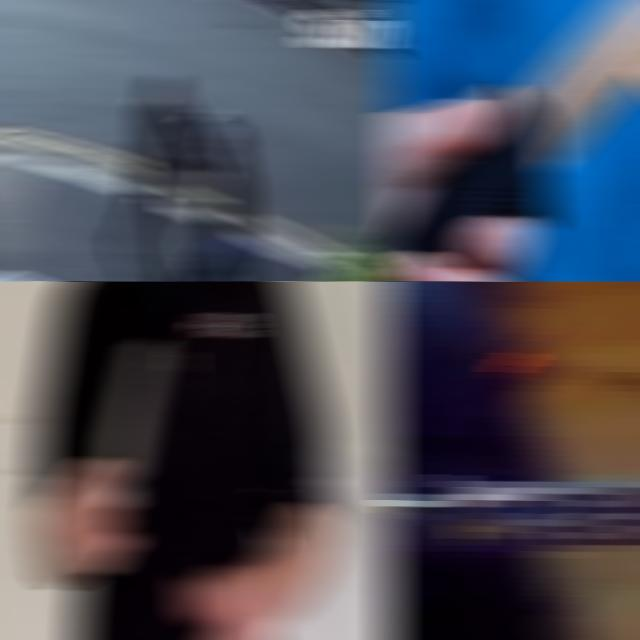Knife: (382, 0, 640, 281)
Knife_Handle: (382, 0, 640, 281), (382, 414, 640, 640), (58, 335, 168, 574), (182, 106, 220, 124)
